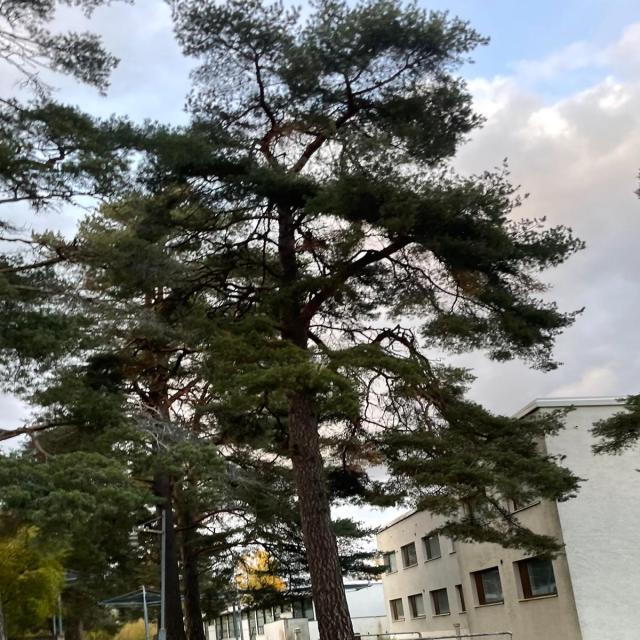pine: (48, 0, 601, 640)
